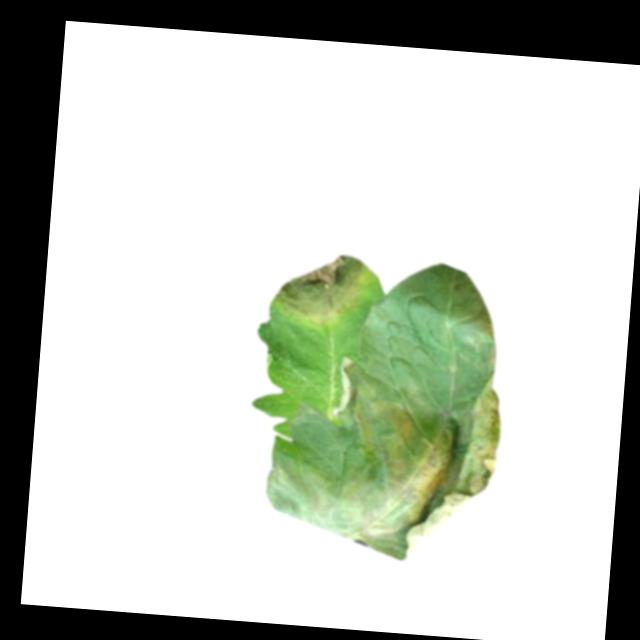Late_blight: (327, 363, 505, 566), (271, 247, 371, 331), (262, 451, 335, 529)
